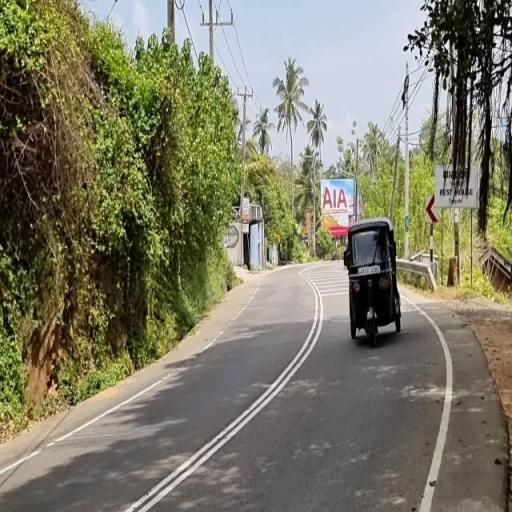double_white_line: (123, 278, 325, 510)
